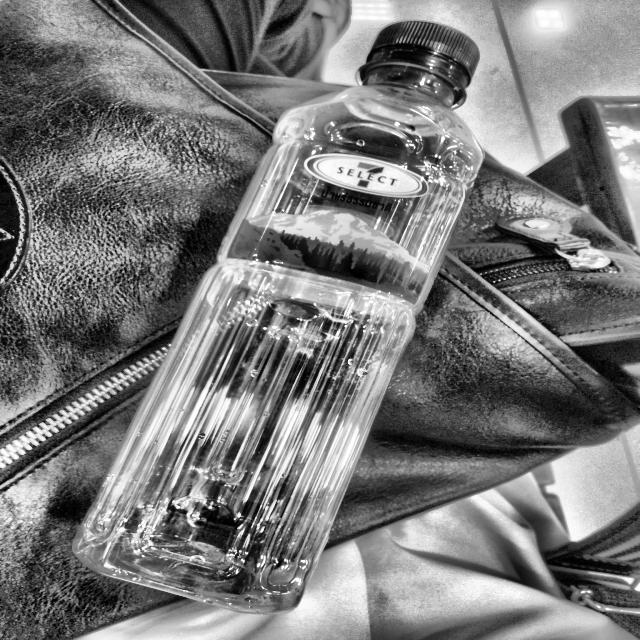waterbottle: (61, 13, 505, 627)
